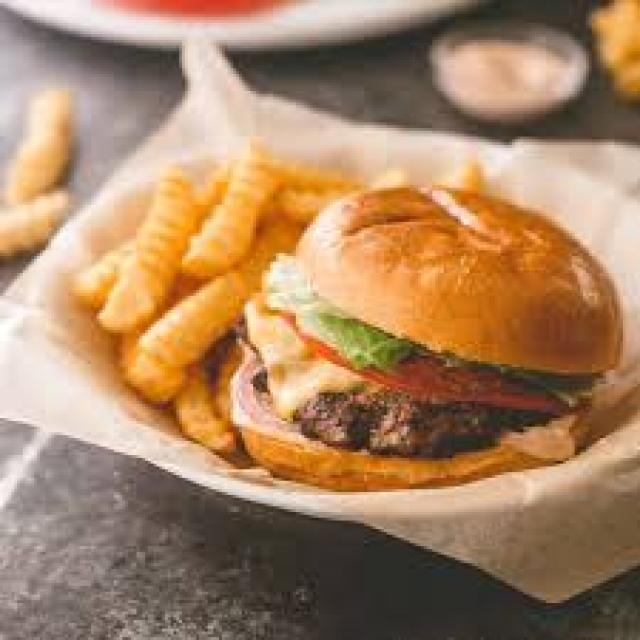Burger: (230, 174, 623, 484)
French Fries: (94, 145, 256, 444)
